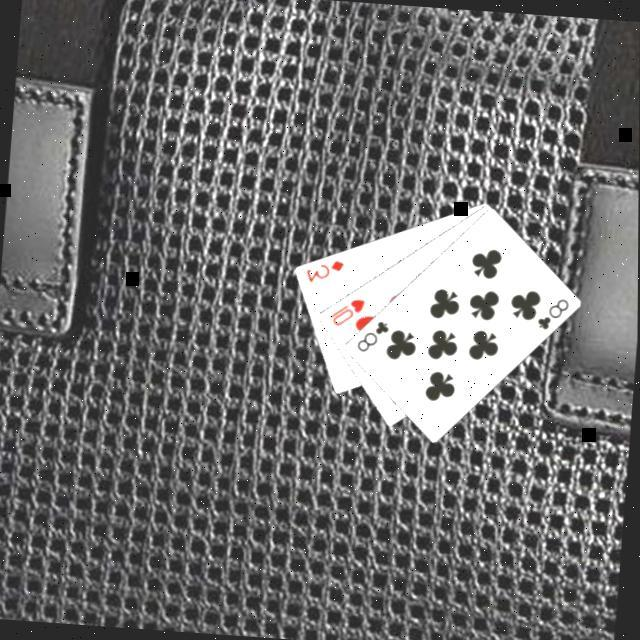10H: (327, 293, 369, 330)
3D: (303, 254, 349, 287)
8C: (354, 315, 394, 356), (535, 293, 574, 333)
